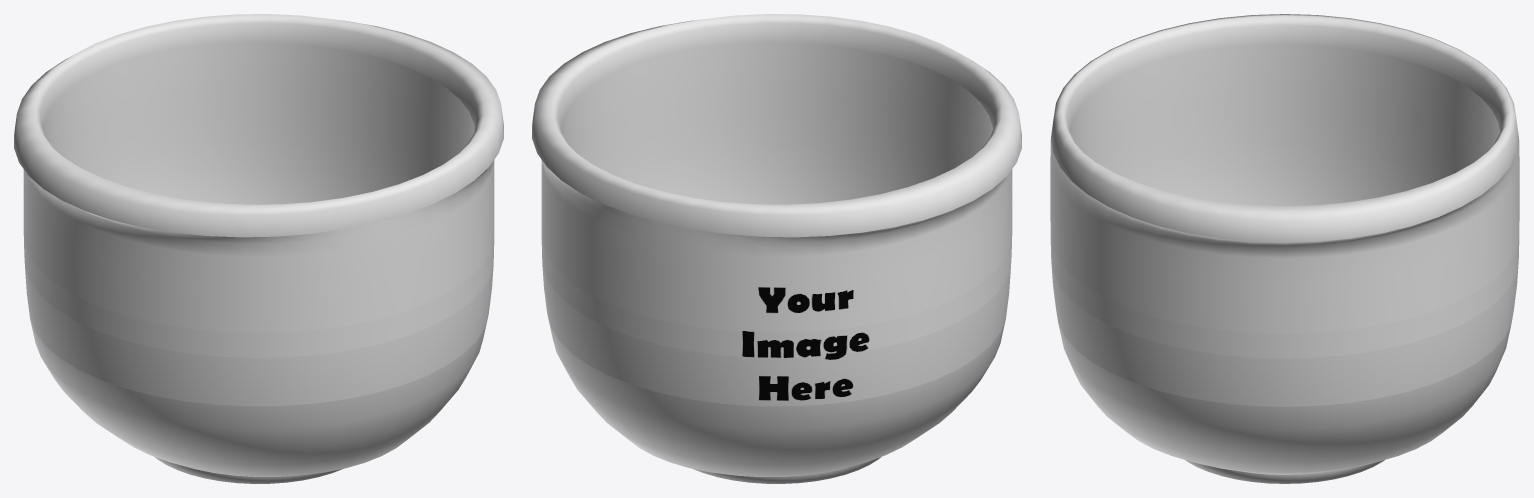
The model's file is pot_03.gltf.
3 views of the same model, side by side, from view 1: azimuth 30°, elevation 25°; view 2: azimuth 150°, elevation 25°; view 3: azimuth 270°, elevation 25° (orthographic).
Visible parts, largest first — view 1: Body, Rim, Base; view 2: Body, Rim, Base; view 3: Body, Rim, Base.
Boxes of the visible parts, bbox=[...] form: Body: bbox=[23, 42, 494, 476]; Rim: bbox=[14, 14, 503, 237]; Base: bbox=[155, 457, 342, 483]; Body: bbox=[541, 42, 1012, 476]; Rim: bbox=[532, 14, 1021, 237]; Base: bbox=[693, 457, 880, 483]; Body: bbox=[1050, 44, 1519, 474]; Rim: bbox=[1051, 14, 1518, 242]; Base: bbox=[1185, 460, 1384, 483].
Bounding box in the file's own units: 0.2499 × 0.1818 × 0.2368.
3 materials, 1 textured.
